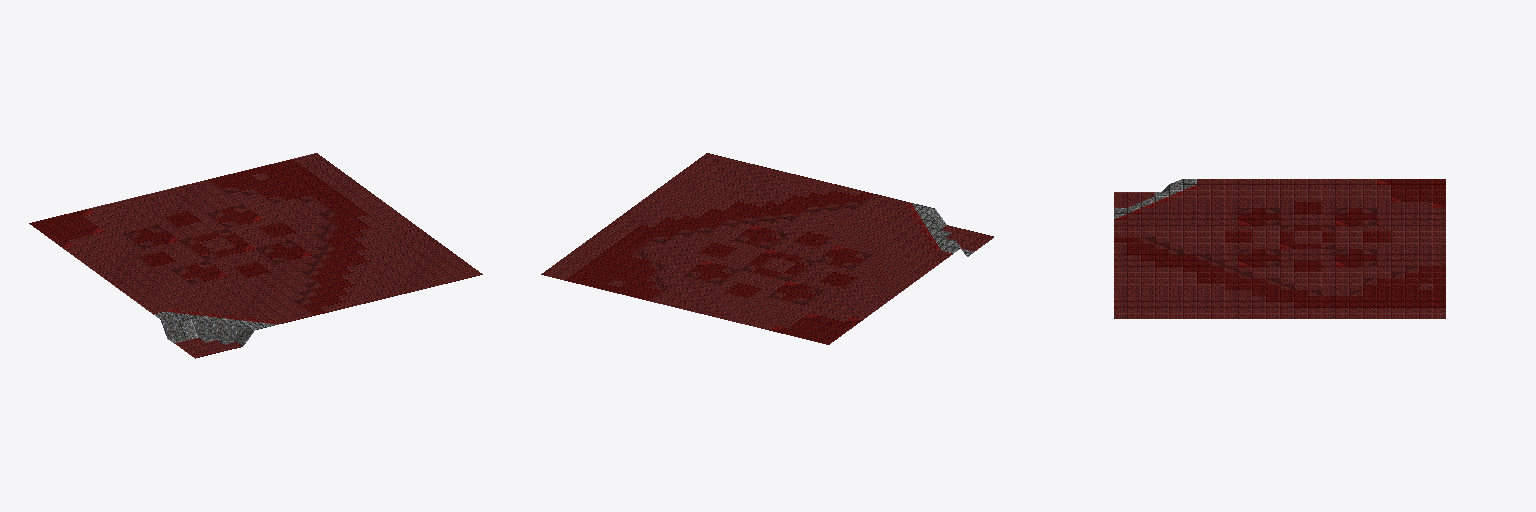
3 views of the same model, side by side, from view 1: azimuth 30°, elevation 25°; view 2: azimuth 150°, elevation 25°; view 3: azimuth 270°, elevation 25° (orthographic).
Parts seen in each view (by area): view 1: FloorCorner_2; view 2: FloorCorner_2; view 3: FloorCorner_2.
Part boxes in pixels (x1,y1,x2,y2): FloorCorner_2: (29, 153, 482, 358); FloorCorner_2: (541, 153, 993, 344); FloorCorner_2: (1114, 179, 1445, 318).
Size of the model in its own units: 24 by 1.11 by 24.
10 materials, 10 textured.